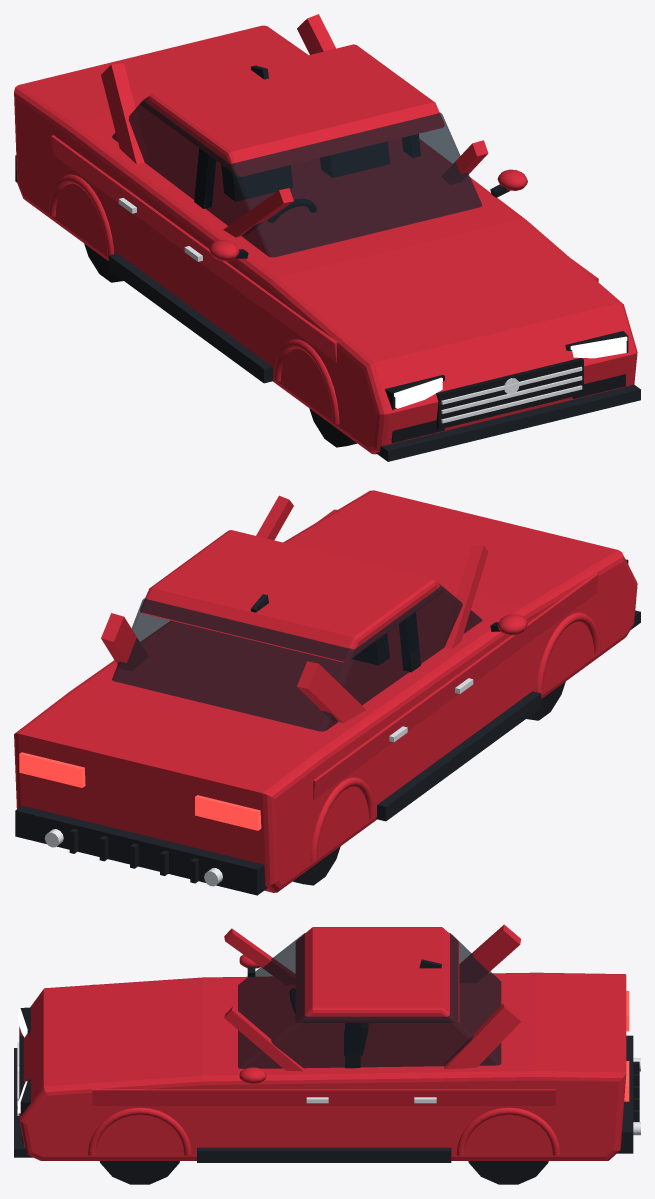
The model's file is car_sedan.glb.
3 views of the same model, one above another, from view 1: azimuth 30°, elevation 25°; view 2: azimuth 150°, elevation 25°; view 3: azimuth 270°, elevation 25° (orthographic). The views are drawn at different scales.
Parts seen in each view (by area): view 1: car_sedan; view 2: car_sedan; view 3: car_sedan.
Boxes of the visible parts, x1,y1,x2,y2 form: car_sedan: (14,14,640,461); car_sedan: (14,490,640,895); car_sedan: (14,924,640,1184).
Bounding box in the file's own units: 2.28 × 1.54 × 4.83.
